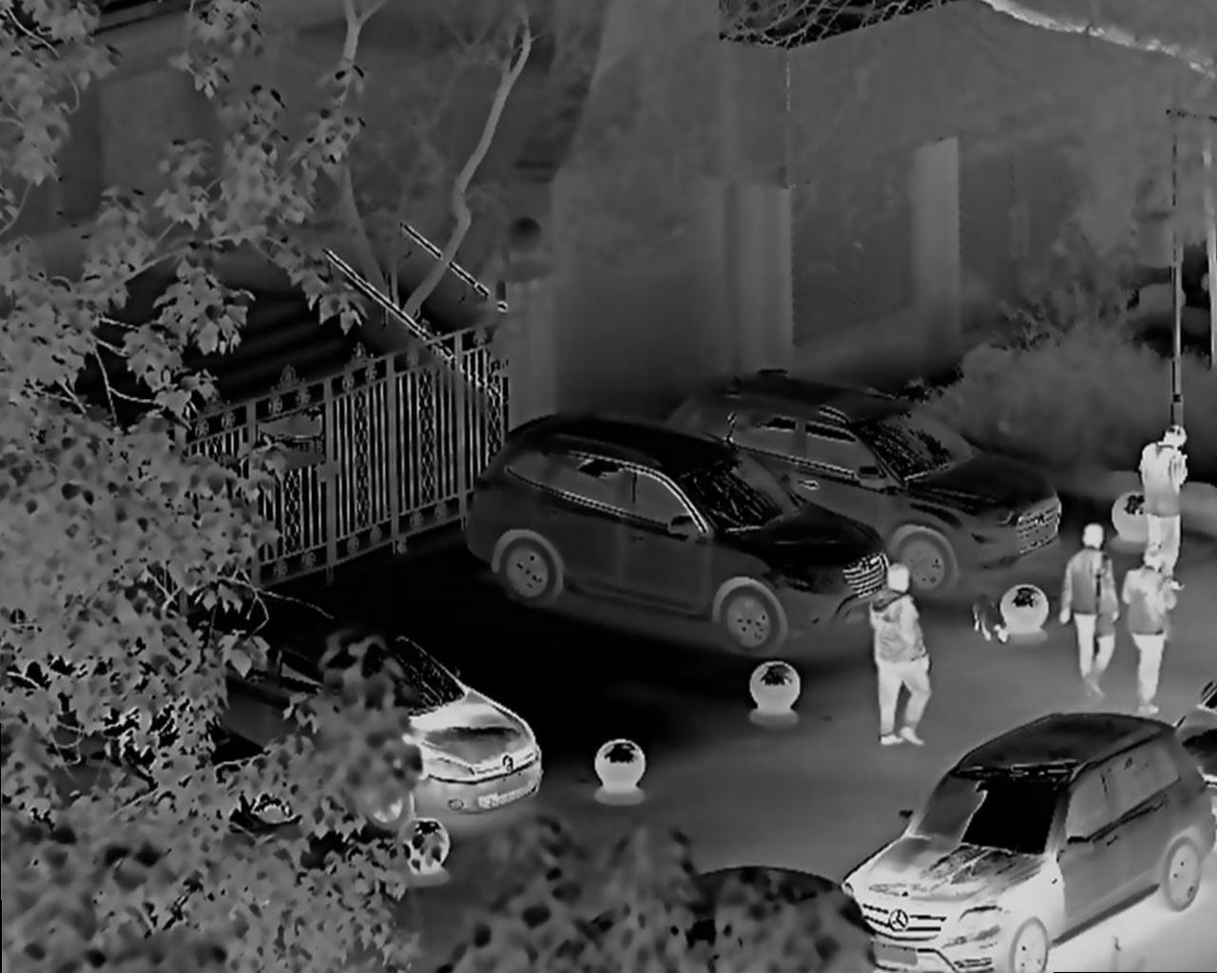person: (872, 557, 951, 747), (1135, 414, 1202, 565), (1061, 512, 1111, 707), (1127, 541, 1178, 698)
